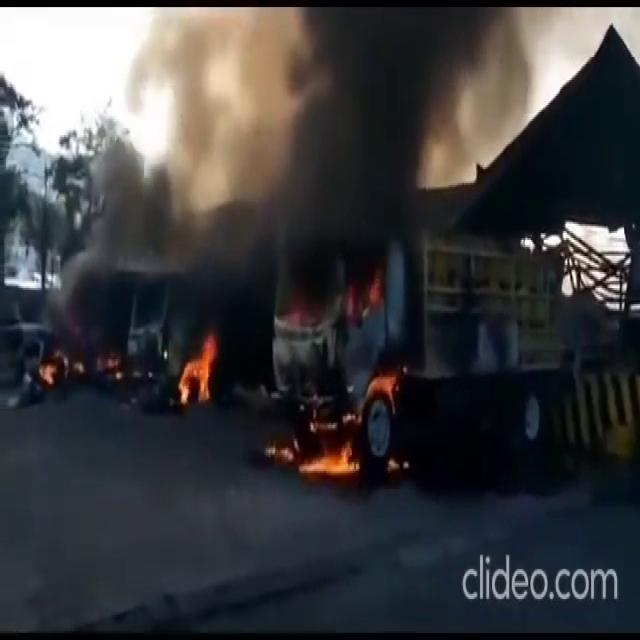Fire: (268, 361, 418, 484), (36, 341, 128, 409), (178, 326, 221, 404)
Smoke: (44, 2, 532, 265)
